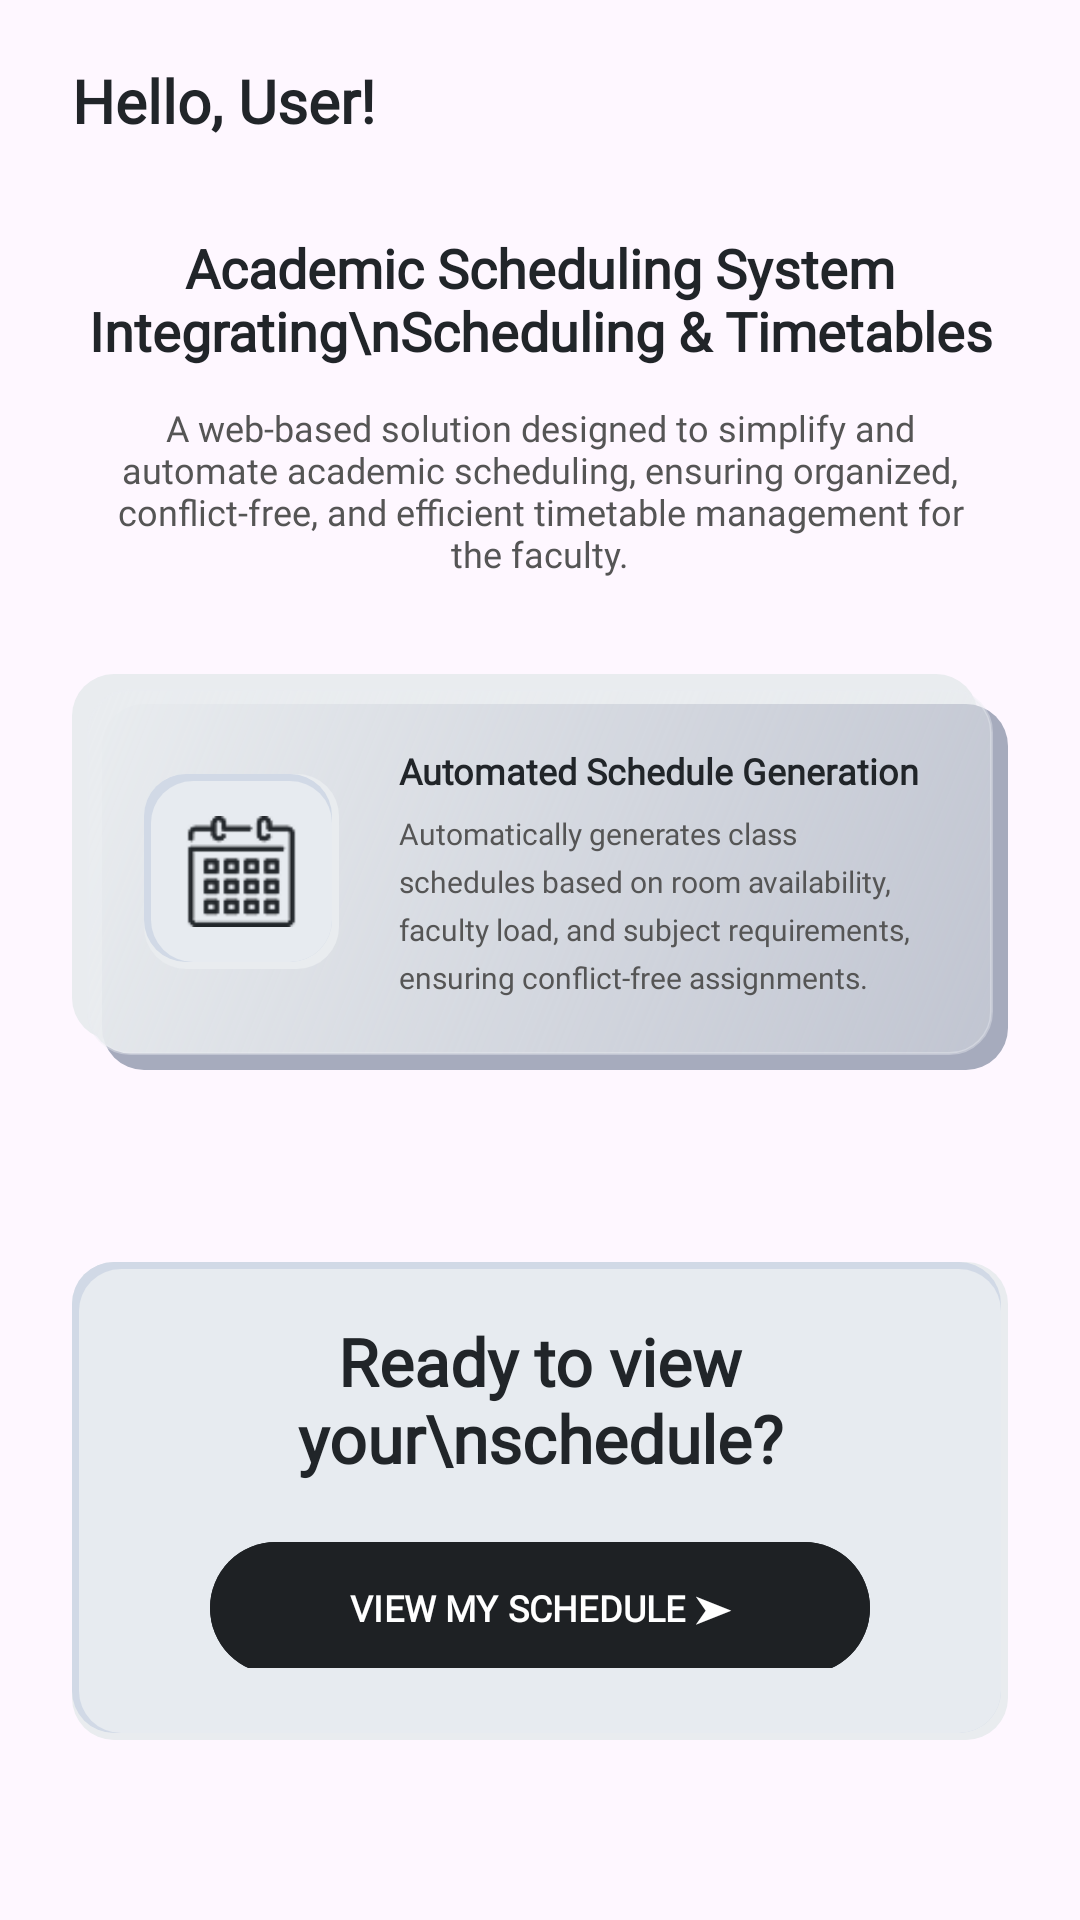

Where to tap for icons on this 1080px×1920px app screen, as point (x, y):
staff schedule: point (241, 871)
